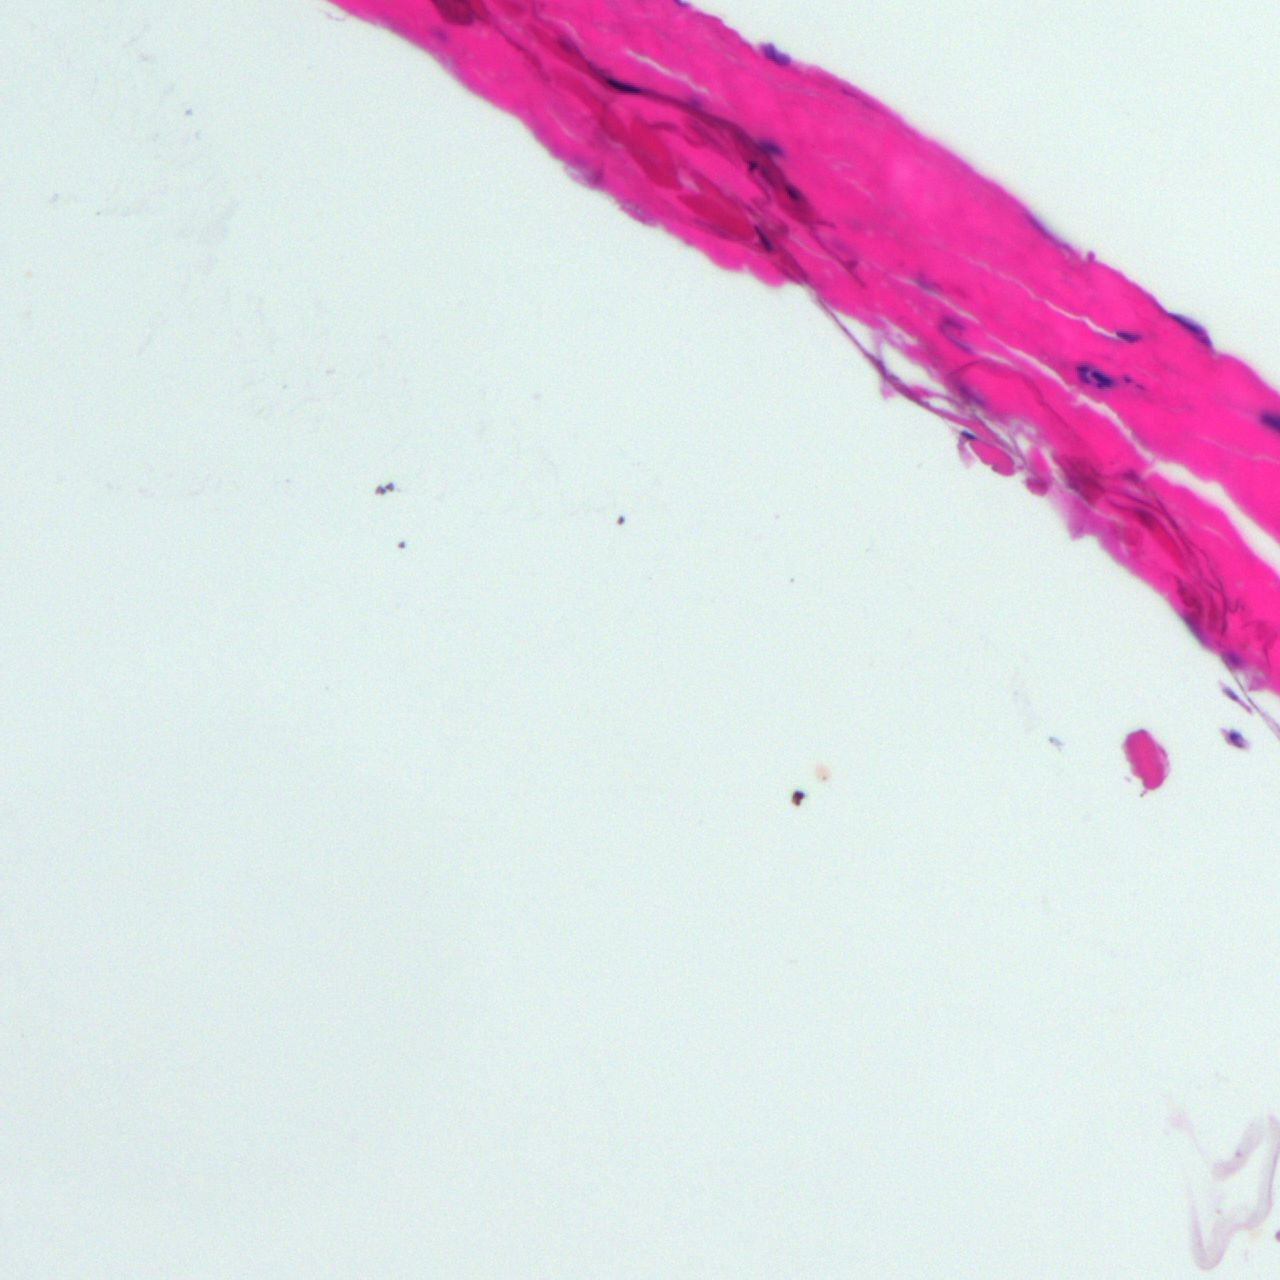dust: (816, 764, 832, 784), (790, 790, 804, 806), (375, 482, 384, 494), (615, 514, 624, 524), (398, 540, 408, 549), (385, 481, 394, 491)
nucleus-HE: (1168, 306, 1215, 345), (758, 40, 793, 73), (751, 225, 772, 253), (608, 77, 638, 93), (1093, 368, 1112, 388), (1076, 363, 1089, 383), (1118, 330, 1142, 340), (784, 184, 798, 199), (960, 430, 975, 439), (748, 160, 757, 171)
